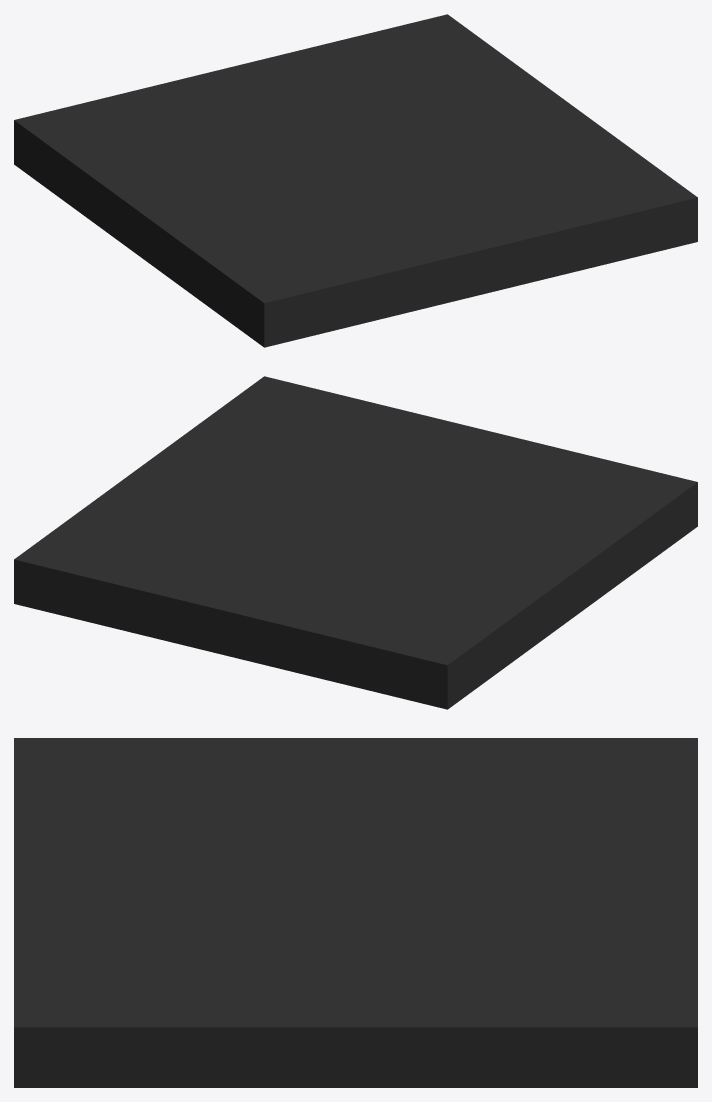
Rendered from SM_Bld_Ceiling_03.fbx.
3 views of the same model, one above another, from view 1: azimuth 30°, elevation 25°; view 2: azimuth 150°, elevation 25°; view 3: azimuth 270°, elevation 25° (orthographic). The views are drawn at different scales.
Parts seen in each view (by area): view 1: SM_Bld_Ceiling_03; view 2: SM_Bld_Ceiling_03; view 3: SM_Bld_Ceiling_03.
Boxes of the visible parts, x1,y1,x2,y2 form: SM_Bld_Ceiling_03: [14, 14, 697, 347]; SM_Bld_Ceiling_03: [14, 376, 697, 709]; SM_Bld_Ceiling_03: [14, 738, 697, 1087].
Bounding box in the file's own units: 500 × 54.91 × 500.
Materials: 1 (1 with a texture image).
